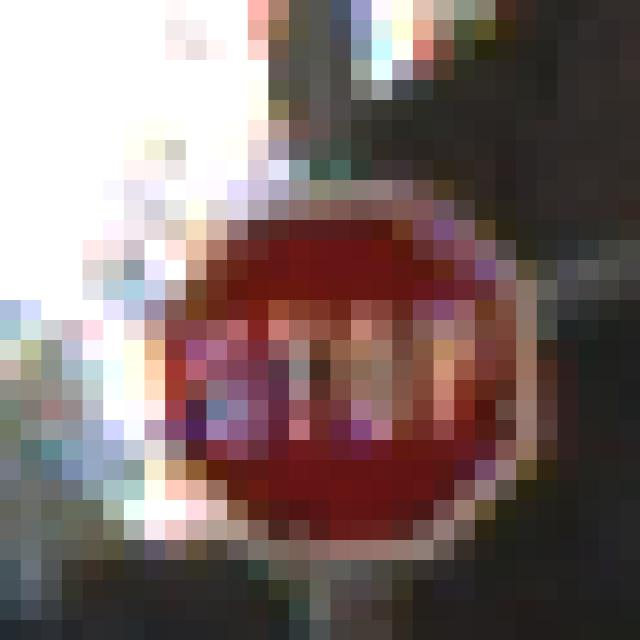STOP: (125, 121, 538, 521)
